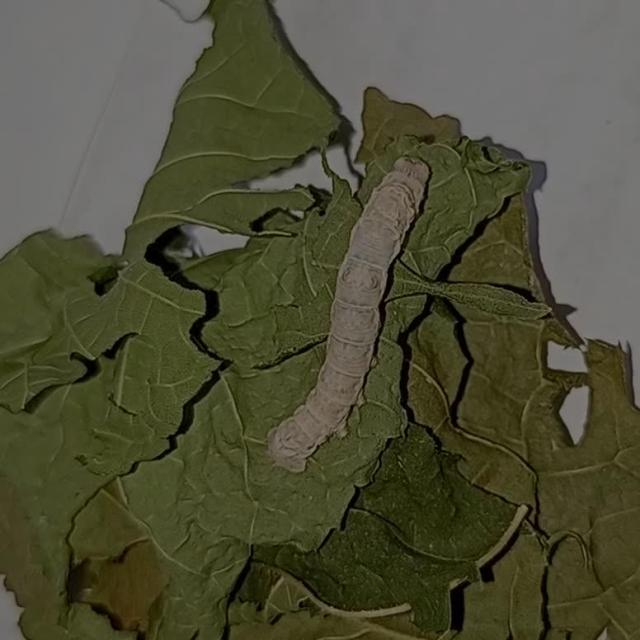Healthy: (265, 153, 437, 469)
